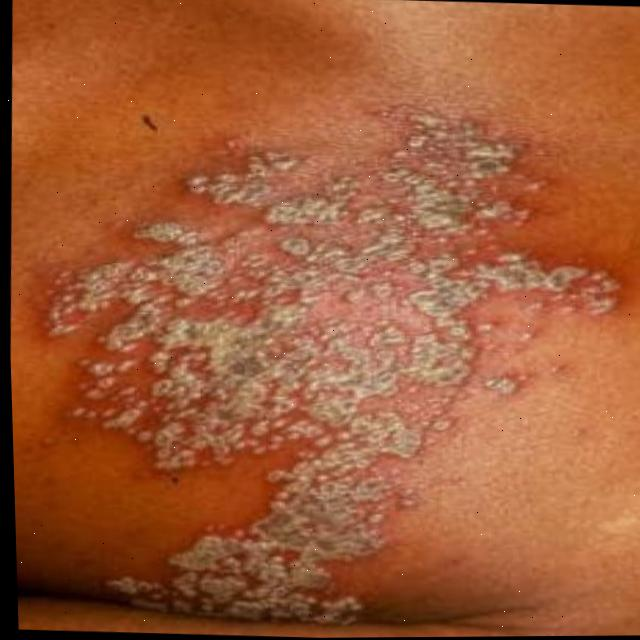Shingles: (26, 94, 640, 635)
